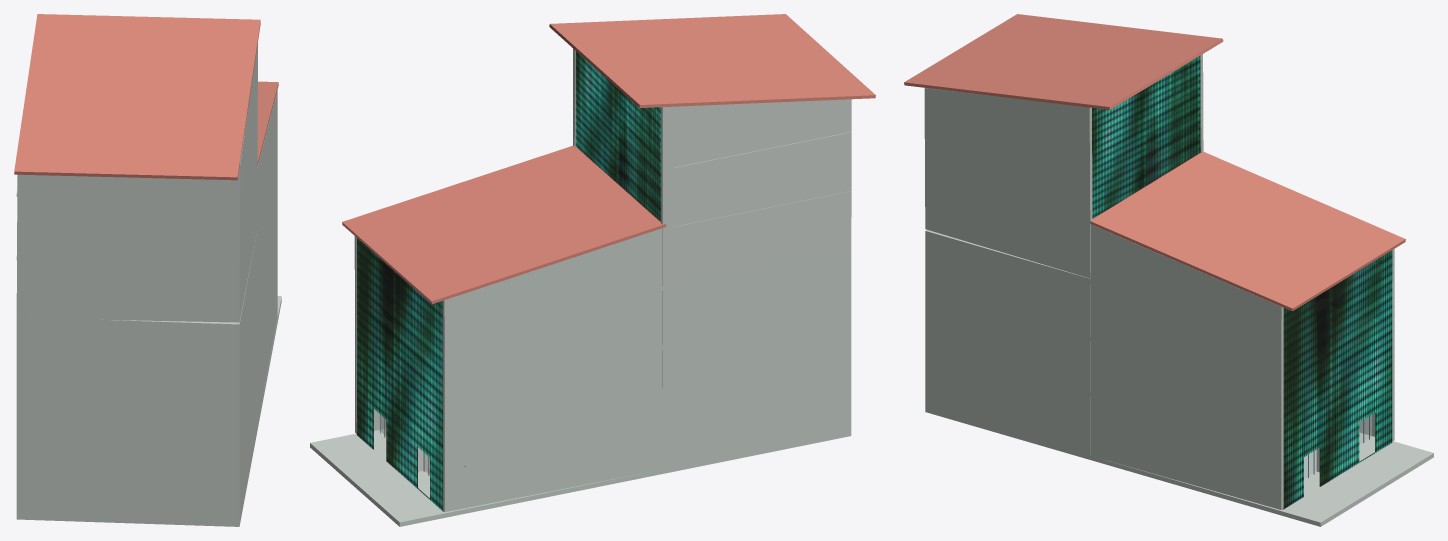
The picture shows the model from 3 angles, left to right: view 1: azimuth 30°, elevation 25°; view 2: azimuth 150°, elevation 25°; view 3: azimuth 270°, elevation 25°; orthographic projection. The views are drawn at different scales.
Visible parts, largest first — view 1: Object.957, Object.921, Object.954, Object.919, Object.920, Object.959, Object.960, Object.951, Object.958, Object.955, Object.947, Object.946; view 2: Object.953, Object.958, Object.954, Object.955, Object.921, Object.916, Object.915, Object.960, Object.947, Object.946, Object.956, Object.959 (+4 smaller); view 3: Object.919, Object.920, Object.954, Object.955, Object.916, Object.921, Object.915, Object.960, Object.959, Object.951, Object.947, Object.946 (+2 smaller).
Boxes of the visible parts, x1=… form: Object.957: x1=21, y1=321, x2=234, y2=521; Object.921: x1=14, y1=14, x2=260, y2=180; Object.954: x1=16, y1=43, x2=257, y2=322; Object.919: x1=257, y1=90, x2=277, y2=425; Object.920: x1=235, y1=241, x2=257, y2=521; Object.959: x1=16, y1=230, x2=257, y2=334; Object.960: x1=16, y1=296, x2=281, y2=526; Object.951: x1=17, y1=262, x2=274, y2=455; Object.958: x1=16, y1=321, x2=21, y2=514; Object.955: x1=257, y1=81, x2=278, y2=166; Object.947: x1=17, y1=201, x2=274, y2=393; Object.946: x1=28, y1=137, x2=274, y2=330; Object.953: x1=442, y1=228, x2=662, y2=511; Object.958: x1=662, y1=250, x2=851, y2=469; Object.954: x1=573, y1=48, x2=851, y2=287; Object.955: x1=342, y1=145, x2=666, y2=304; Object.921: x1=549, y1=14, x2=875, y2=107; Object.916: x1=357, y1=238, x2=443, y2=511; Object.915: x1=575, y1=51, x2=660, y2=221; Object.960: x1=310, y1=429, x2=851, y2=526; Object.947: x1=471, y1=307, x2=851, y2=388; Object.946: x1=471, y1=248, x2=851, y2=329; Object.956: x1=494, y1=432, x2=850, y2=507; Object.959: x1=662, y1=248, x2=851, y2=294; Object.919: x1=1090, y1=224, x2=1283, y2=509; Object.920: x1=925, y1=234, x2=1090, y2=455; Object.954: x1=924, y1=54, x2=1203, y2=278; Object.955: x1=1090, y1=152, x2=1405, y2=311; Object.916: x1=1282, y1=250, x2=1392, y2=509; Object.921: x1=904, y1=14, x2=1223, y2=109; Object.915: x1=1092, y1=56, x2=1200, y2=218; Object.960: x1=925, y1=408, x2=1433, y2=526; Object.959: x1=925, y1=230, x2=1090, y2=287; Object.951: x1=925, y1=344, x2=1257, y2=444; Object.947: x1=925, y1=289, x2=1257, y2=389; Object.946: x1=925, y1=233, x2=1257, y2=332.
Bounding box in the file's own units: 2.46 × 2.16 × 2.89.
5 materials, 1 textured.
